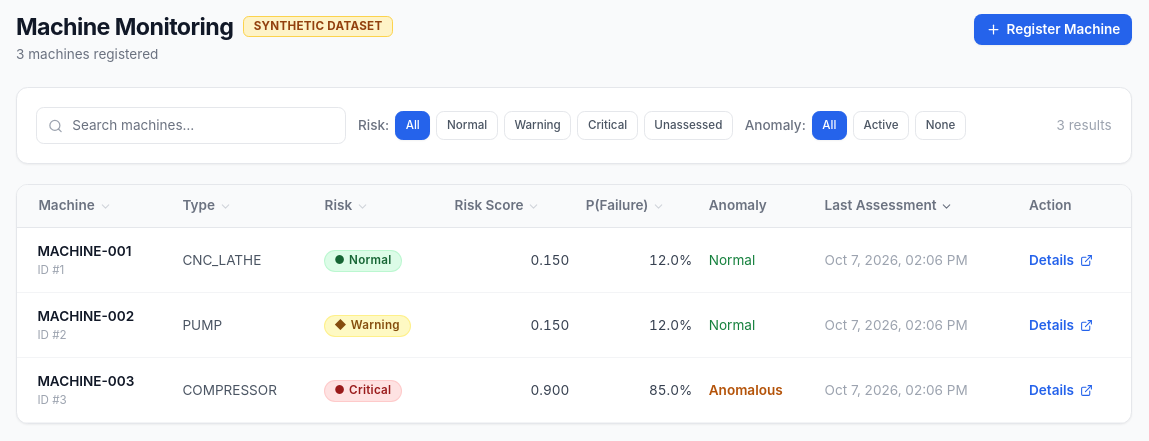
MachinesPage — machine list › filters machines by search term
The width and height of the screenshot is (1149, 441).
Expected: the text "MACHINE-001" is shown, [37, 243, 131, 259]
Type "MACHINE-001" into the search field. click: (191, 126)
box: [36, 107, 346, 144]
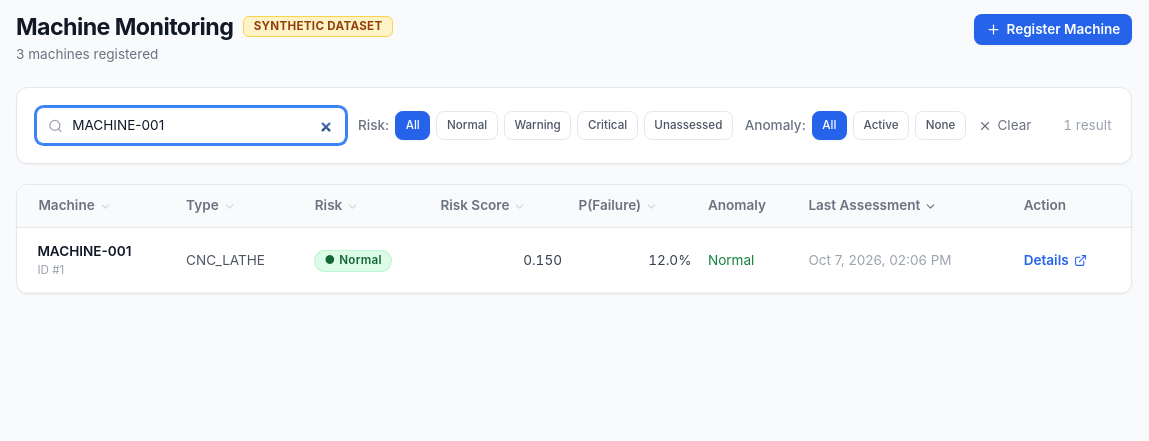
Expected: the text "MACHINE-001" is shown, [37, 243, 131, 259]
Now the text "MACHINE-002" is gone
